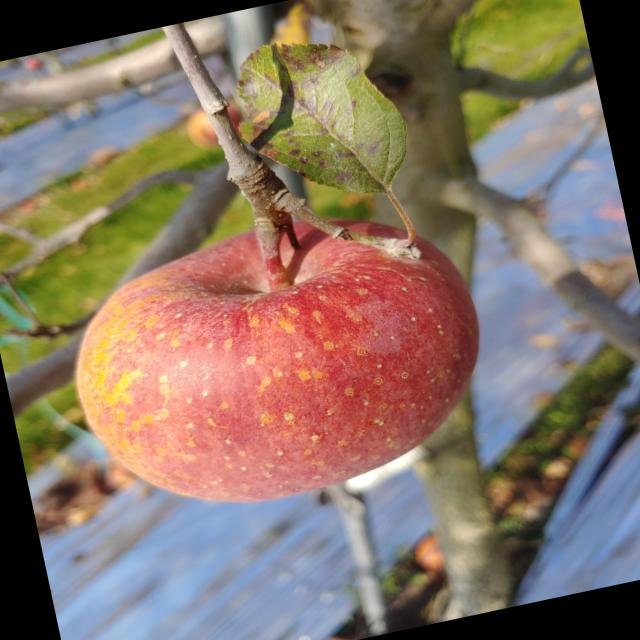fresh: (37, 182, 527, 544), (441, 186, 450, 203)
